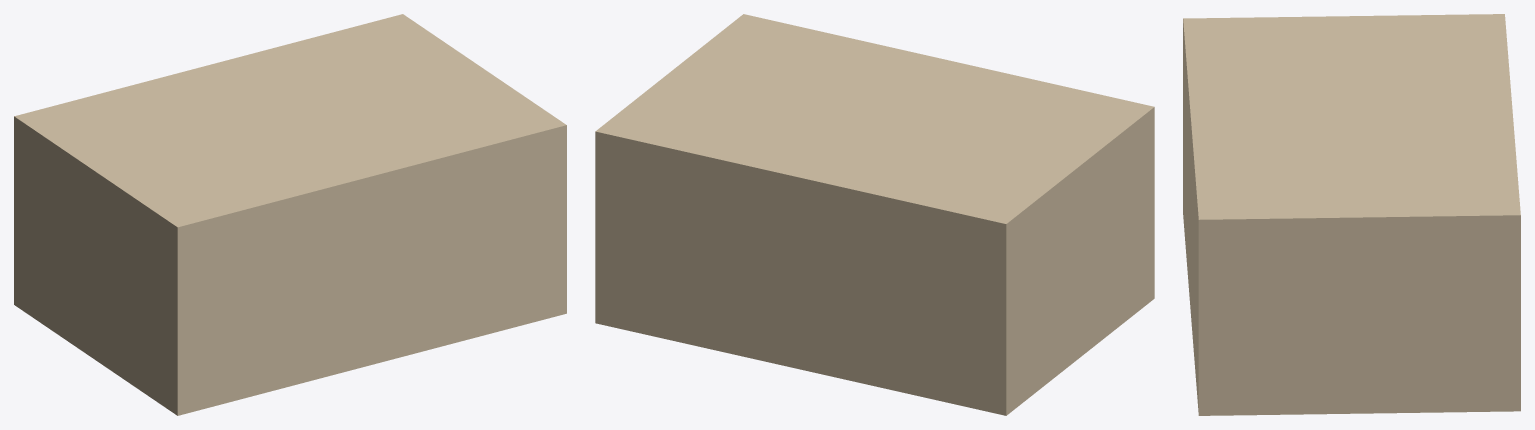
The picture shows the model from 3 angles, left to right: view 1: azimuth 30°, elevation 25°; view 2: azimuth 150°, elevation 25°; view 3: azimuth 270°, elevation 25°; orthographic projection. The views are drawn at different scales.
Visible parts, largest first — view 1: SM_c36682a2999c47062a0d; view 2: SM_c36682a2999c47062a0d; view 3: SM_c36682a2999c47062a0d.
Boxes of the visible parts, box(x1,y1,x2,y2) form: SM_c36682a2999c47062a0d: box(14, 14, 566, 415); SM_c36682a2999c47062a0d: box(595, 14, 1154, 415); SM_c36682a2999c47062a0d: box(1183, 14, 1520, 415).
Bounding box in the file's own units: 20.25 × 14.04 × 9.
